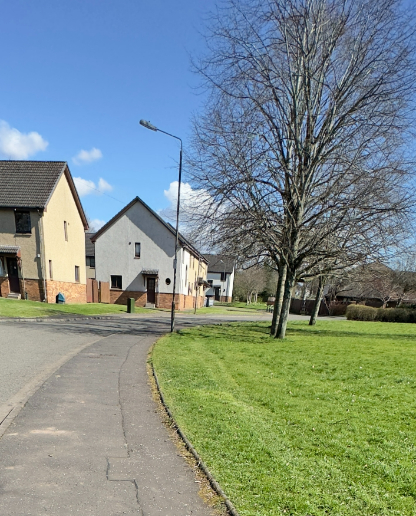tree: (198, 1, 342, 343), (306, 183, 395, 327)
